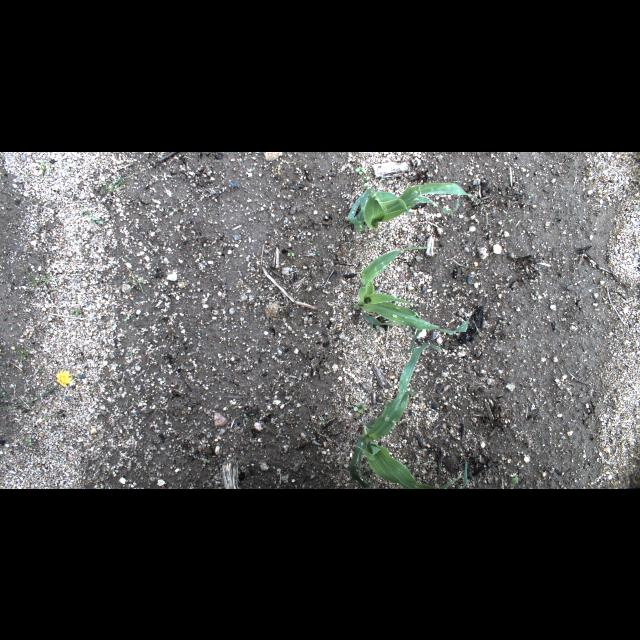crop: (350, 342, 462, 488), (353, 246, 469, 352), (348, 182, 488, 230), (460, 459, 468, 488)
weed: (0, 370, 76, 408), (102, 170, 136, 193), (125, 270, 143, 292), (32, 268, 52, 286), (12, 346, 34, 362), (24, 268, 40, 288), (360, 170, 372, 192), (39, 159, 53, 175), (0, 382, 10, 400), (374, 226, 388, 238), (352, 402, 366, 413), (374, 176, 382, 192), (44, 413, 58, 421), (509, 478, 519, 488), (68, 307, 80, 315), (91, 216, 102, 224), (355, 166, 365, 174), (312, 250, 321, 256), (528, 192, 534, 198), (28, 438, 32, 446), (287, 252, 295, 256), (244, 414, 248, 421), (124, 316, 130, 320), (508, 217, 512, 221)
